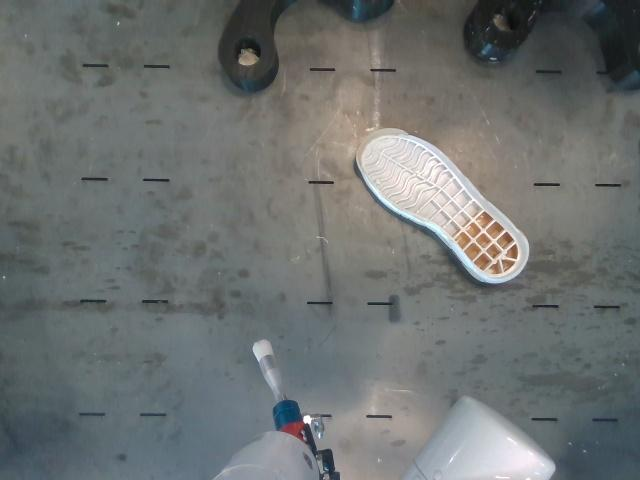shoes: (357, 129, 528, 280)
